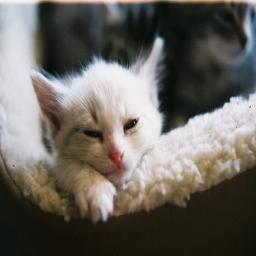catnose: (106, 144, 127, 168)
